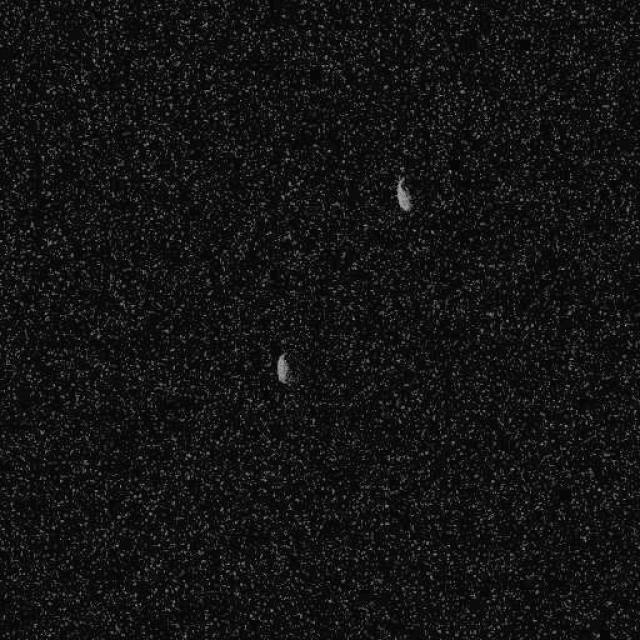D2: (393, 175, 412, 213), (275, 350, 293, 384)
